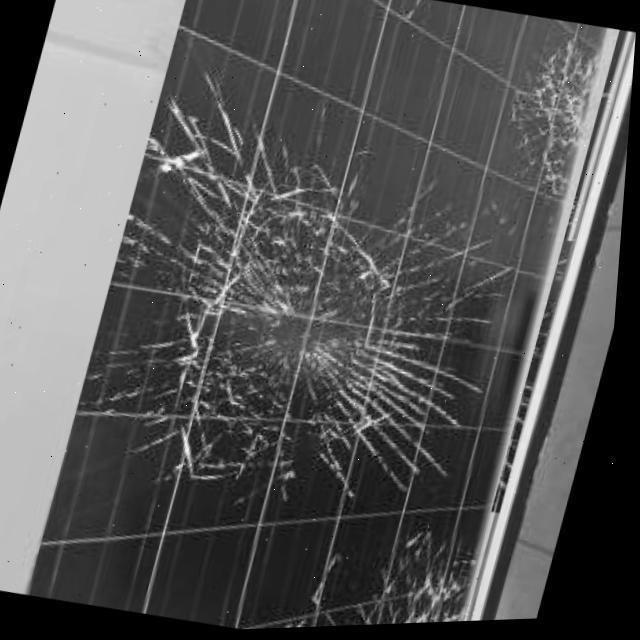Anomaly Solar Panel: (38, 0, 621, 632)
Structural Damage: (74, 64, 555, 529), (495, 36, 600, 204), (344, 521, 492, 629)
